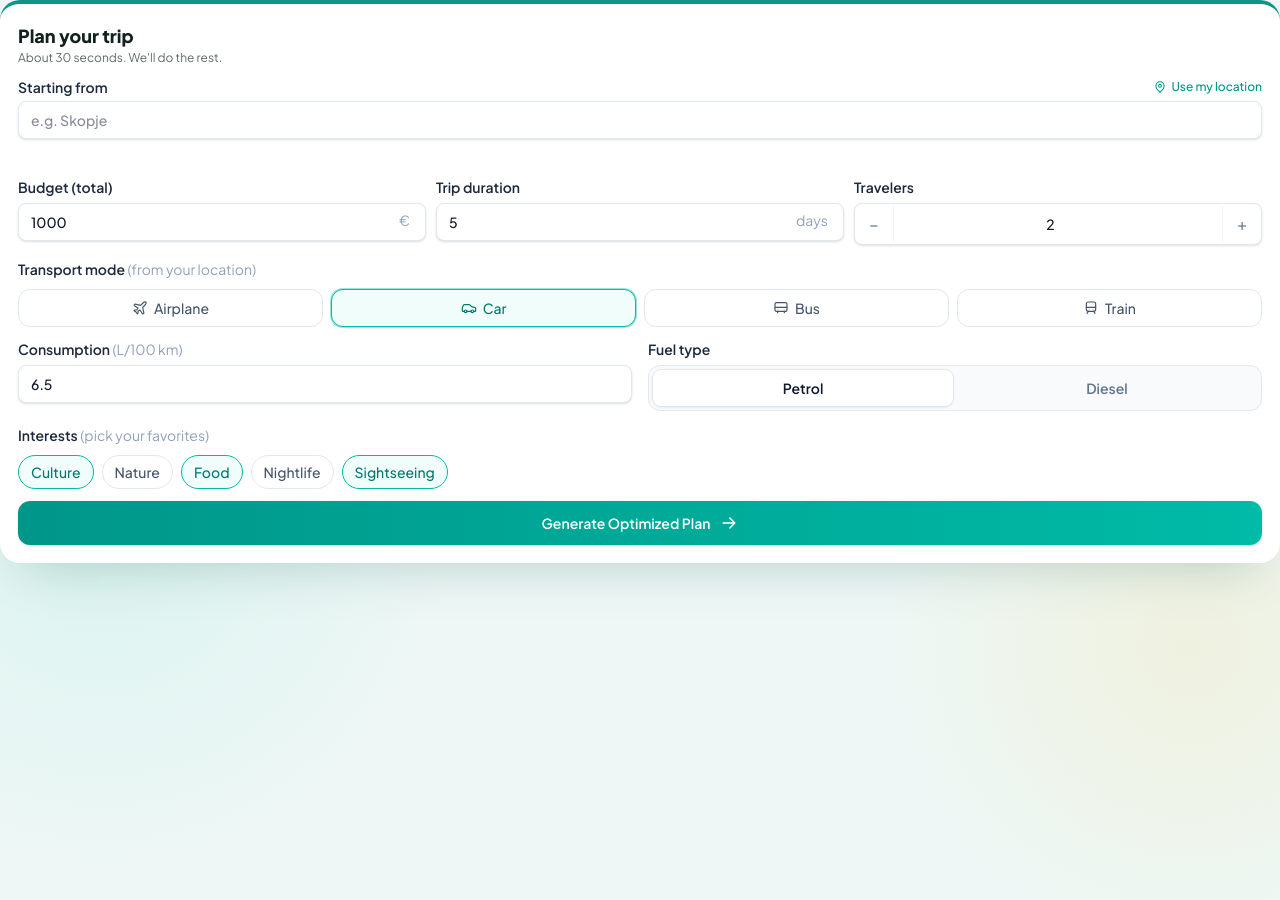
Test: TripInputForm › shows vehicle_consumption only for car
Expected: the number field labelled "Consumption (L/100 km)" is shown, [18,365,632,403]
Click the button "Train" at (1110, 308), box [957,289,1262,327]
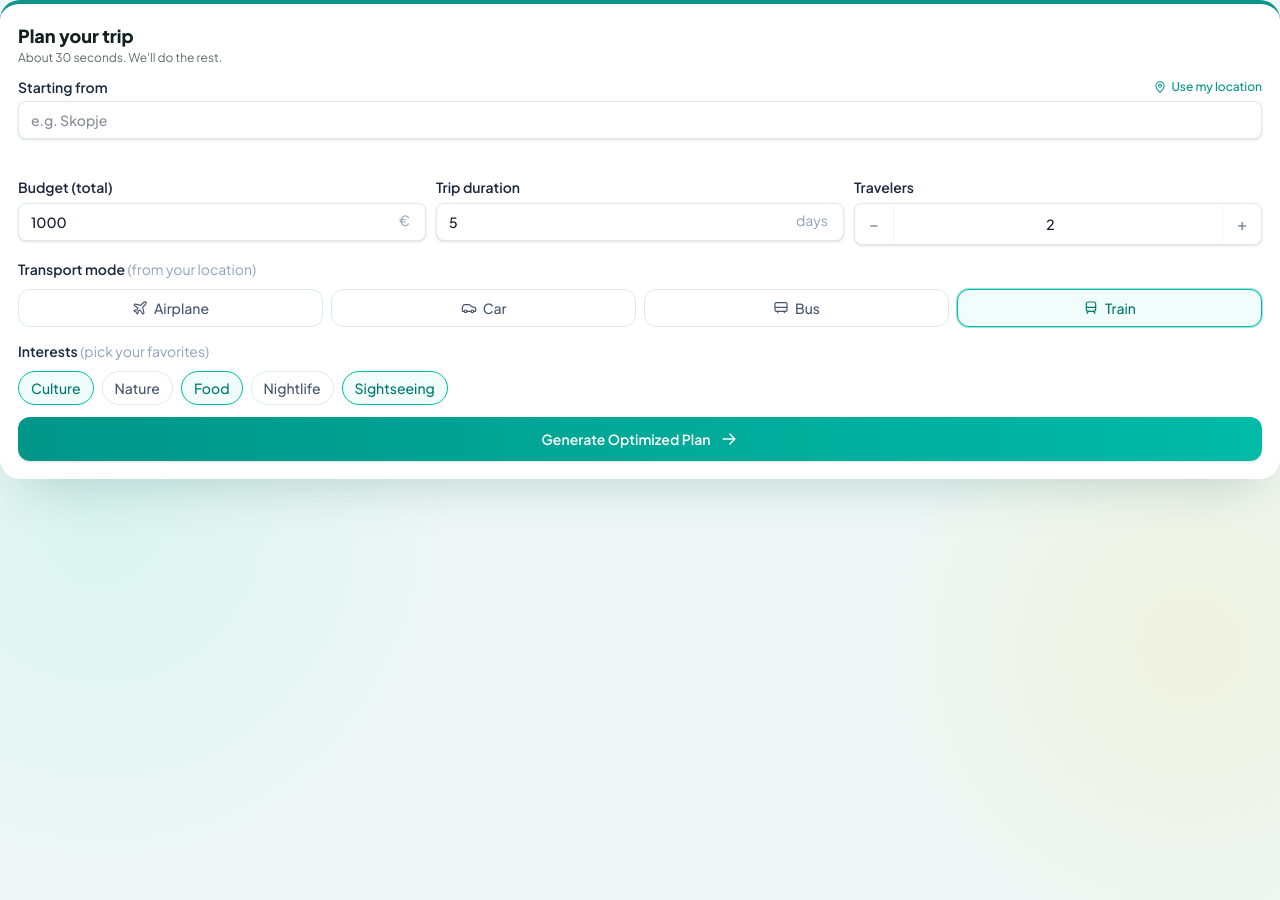
Now the label labelled "Consumption" is gone
Click the button "Car" at (484, 308), box [331,289,636,327]
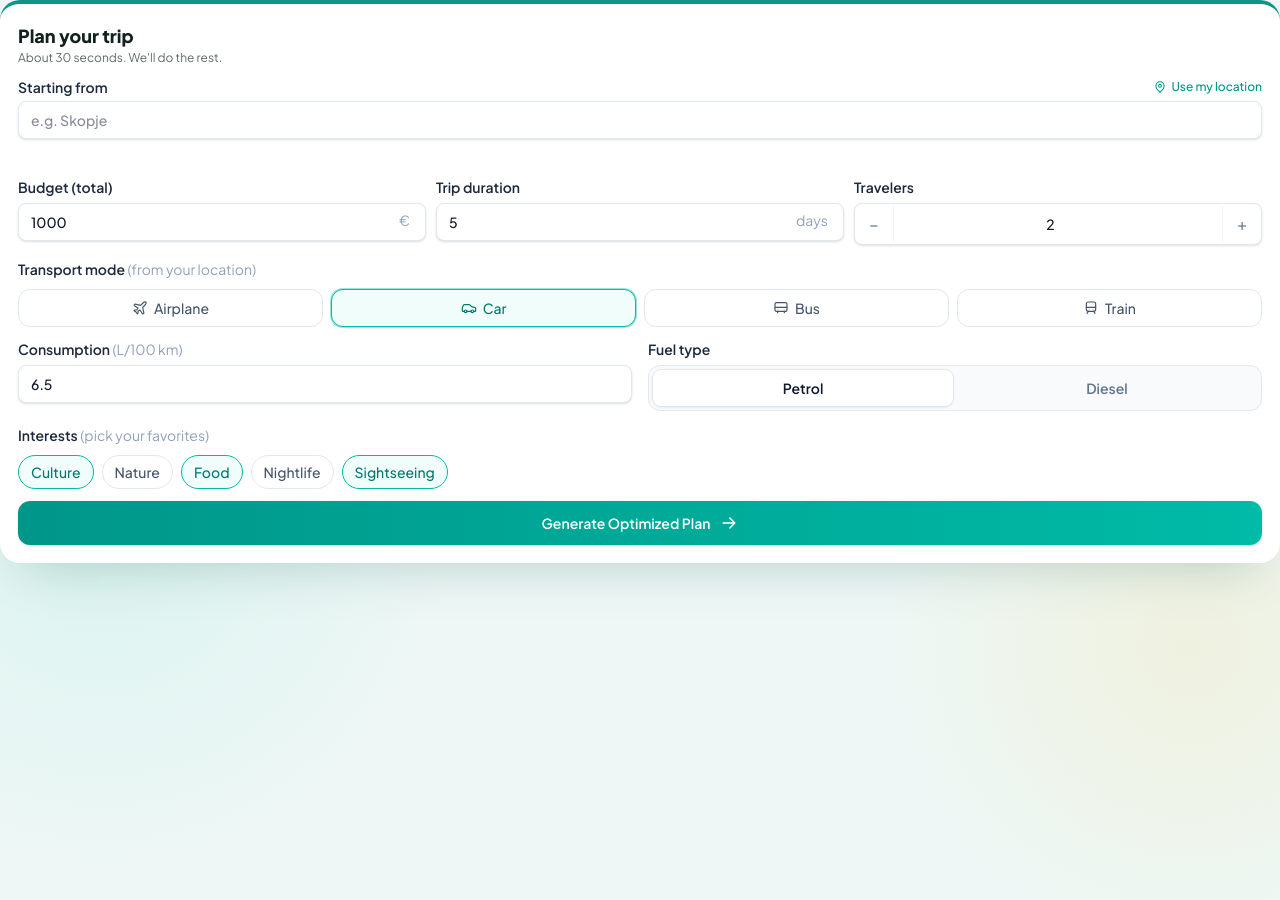
Now the number field labelled "Consumption (L/100 km)" is shown, box [18,365,632,403]
